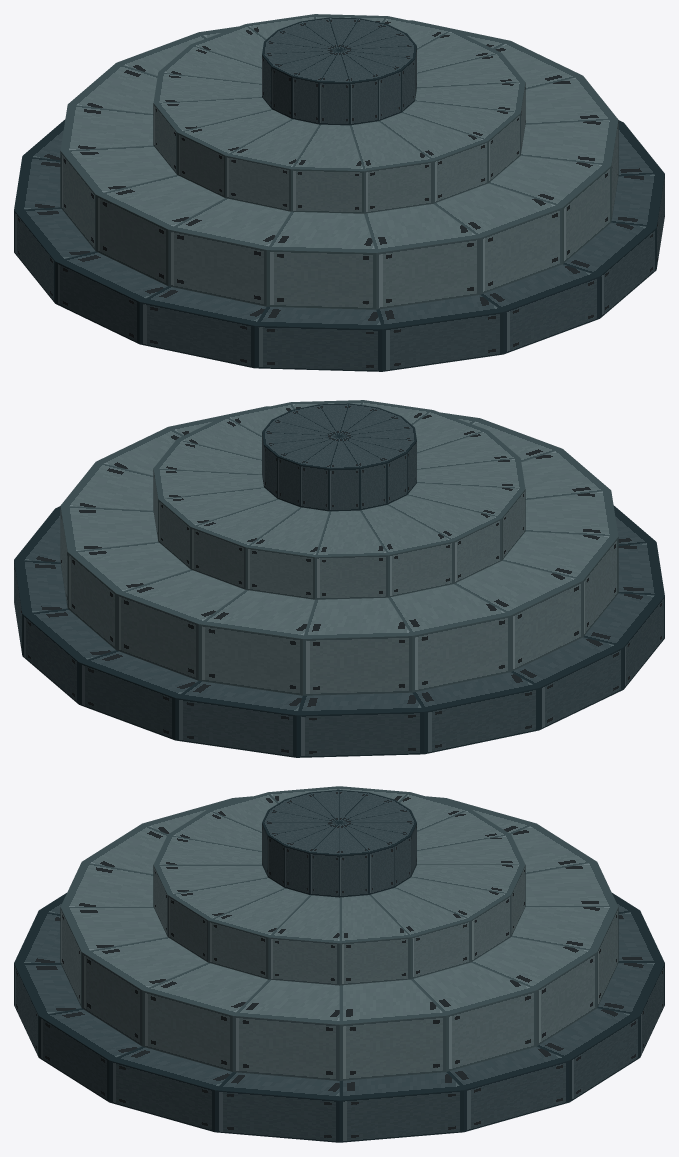
Rendered from detail_silo_cap.obj.
The picture shows the model from 3 angles, top to bottom: view 1: azimuth 30°, elevation 25°; view 2: azimuth 150°, elevation 25°; view 3: azimuth 270°, elevation 25°; orthographic projection.
Bounding box in the file's own units: 2.62 × 0.8125 × 2.62.
